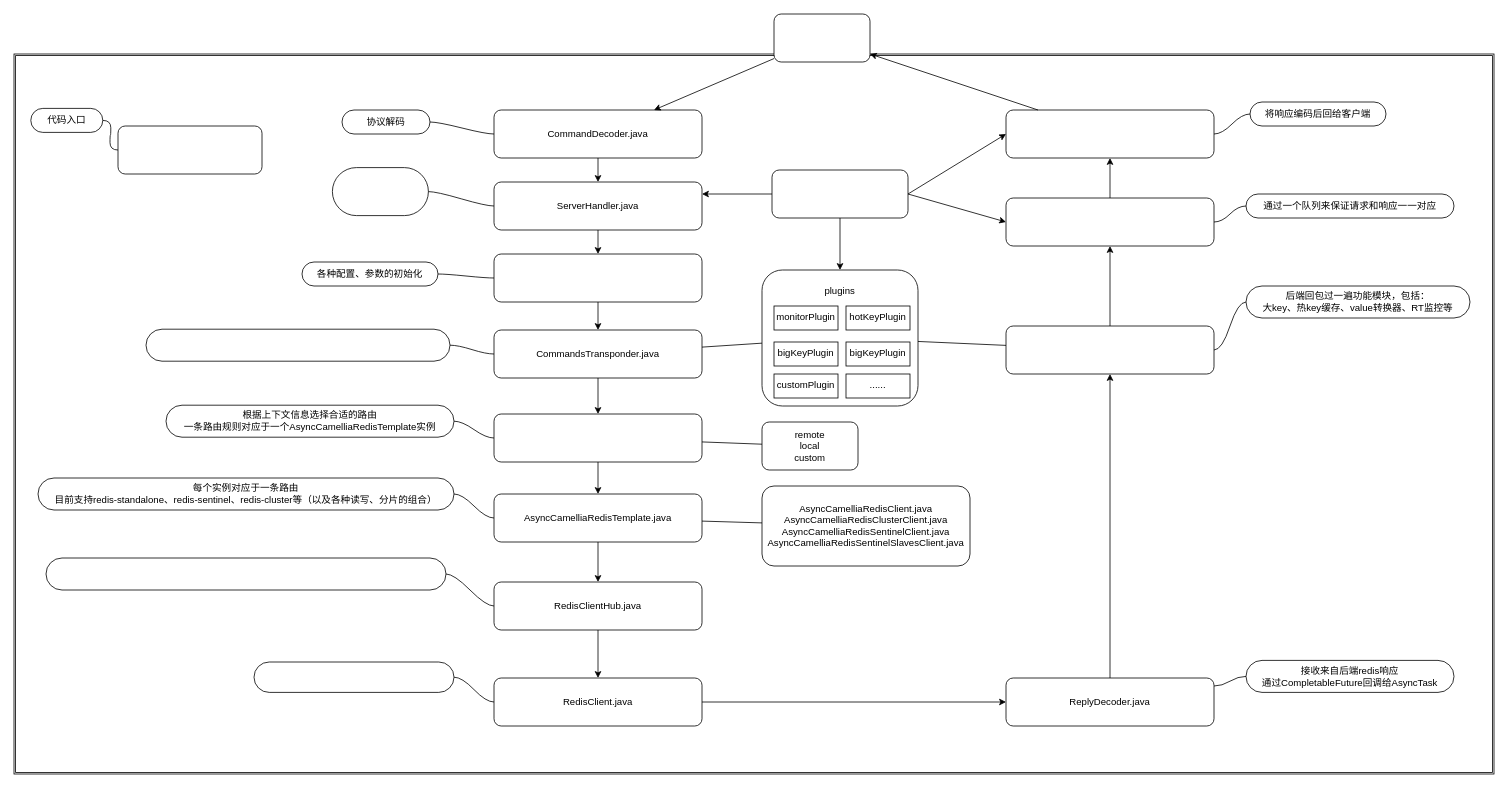
The diagram is 1508 pixels wide and 788 high, and some of its shapes have lost their labels. Here are the shapes that lost their labels. From the top down, the centre of each, then its label:
At pixel 821 37: "客户端".
At pixel 189 149: "CamelliaRedisProxyServer.java".
At pixel 1109 133: "ReplyEncoder.java".
At pixel 380 191: "账号鉴权 请求监控 bid/bgroup解析".
At pixel 839 193: "ProxyMonitorCollector.java".
At pixel 1109 221: "AsyncTaskQueue.java".
At pixel 597 277: "AsyncCommandInvoker.java".
At pixel 297 344: "命令通过本模块进行转发，转发之前会过滤多个功能模块 包含了热key、命令拦截器、大key、value转换器、热key缓存等".
At pixel 1109 349: "AsyncTask.java".
At pixel 597 437: "AsyncCamelliaRedisTemplateChooser.java".
At pixel 245 573: "用于管理到后端redis的连接，如空闲连接的回收等 为了提升性能，RedisClientHub会优先使用上行和下行是同一个work线程的RedisClient".
At pixel 353 676: "每个实例代表到后端的一个连接".
